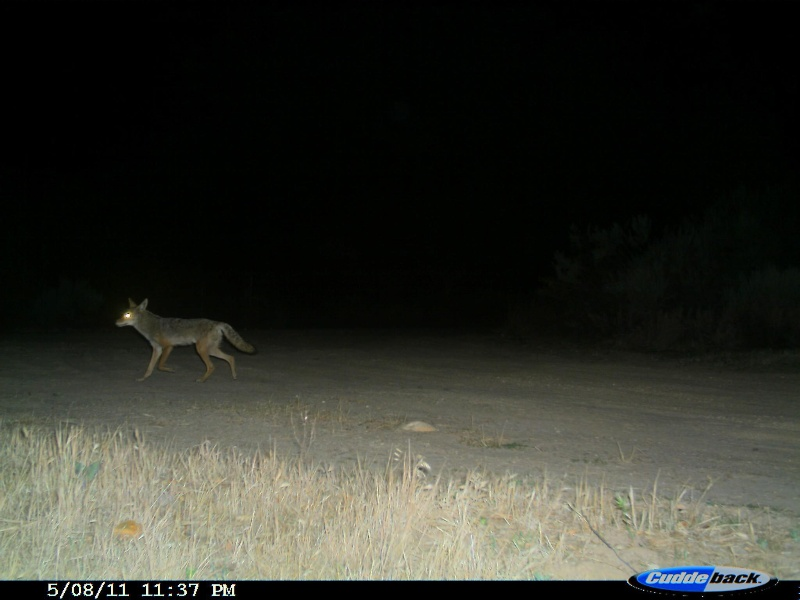coyote: (111, 298, 258, 380)
